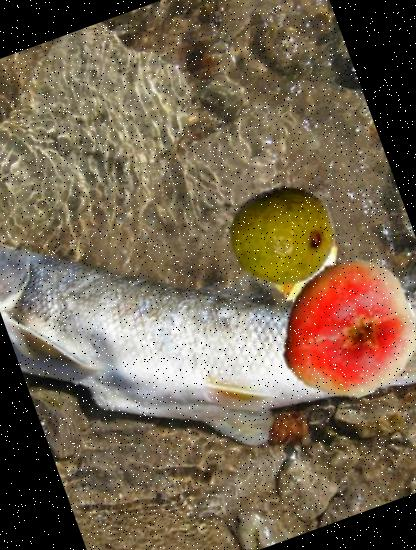Carambula: (250, 212, 354, 316)
Guava: (214, 166, 350, 303)
Peach: (257, 239, 416, 417)
